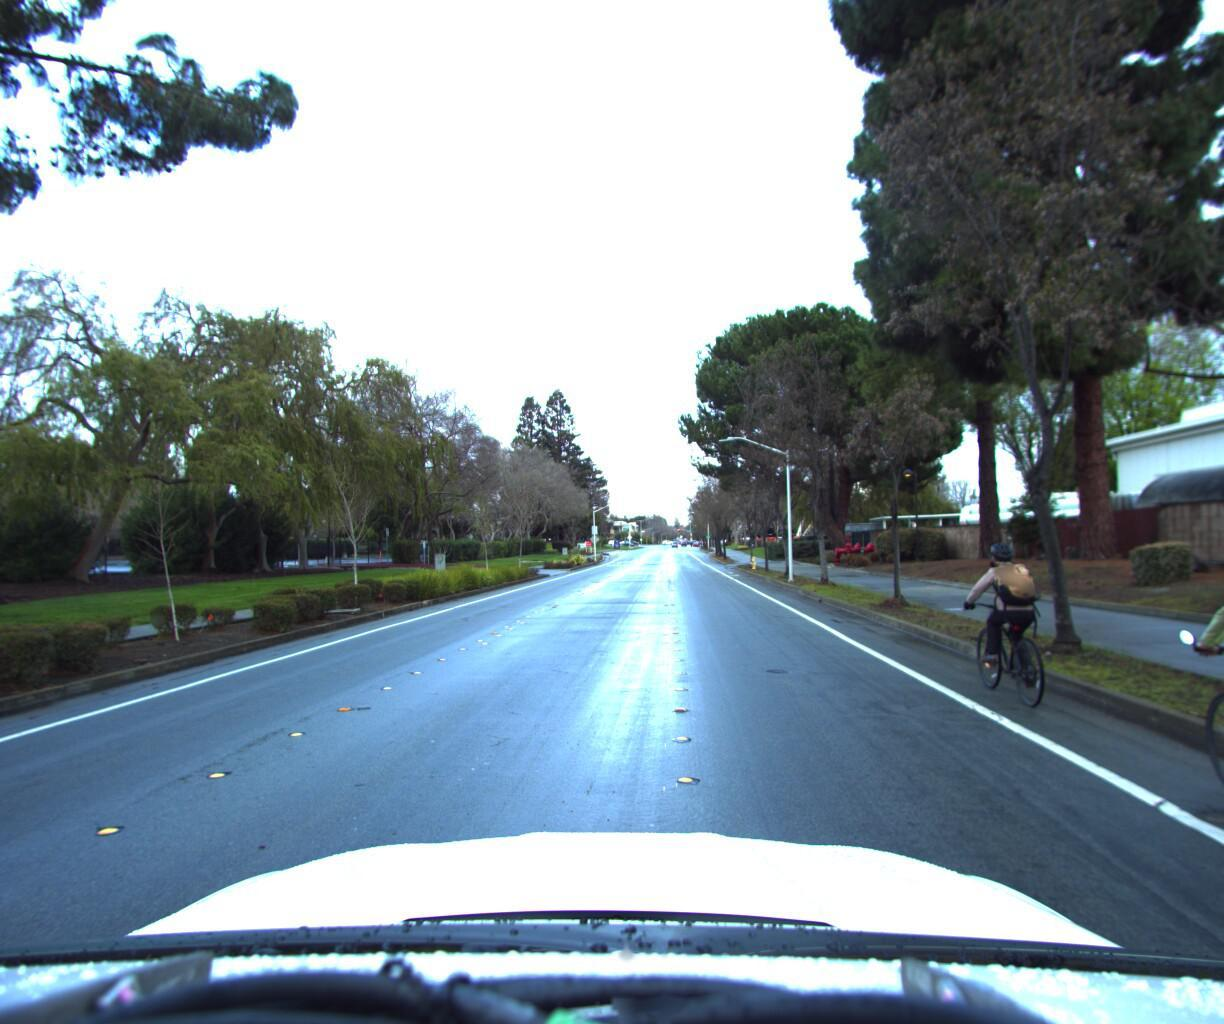bicycle: (1115, 505, 1224, 913), (940, 536, 1092, 719)
